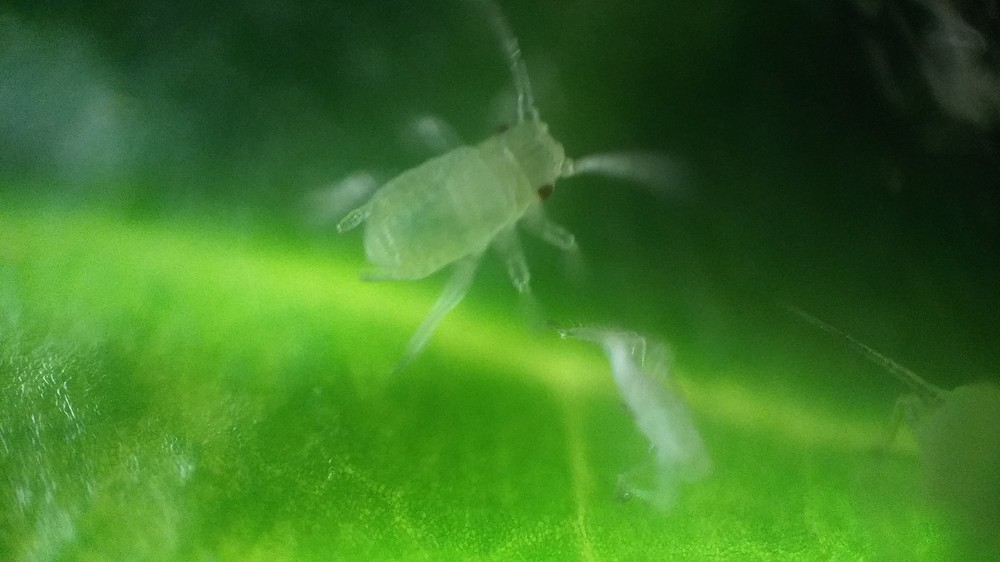Pulgon: (306, 7, 714, 363)
